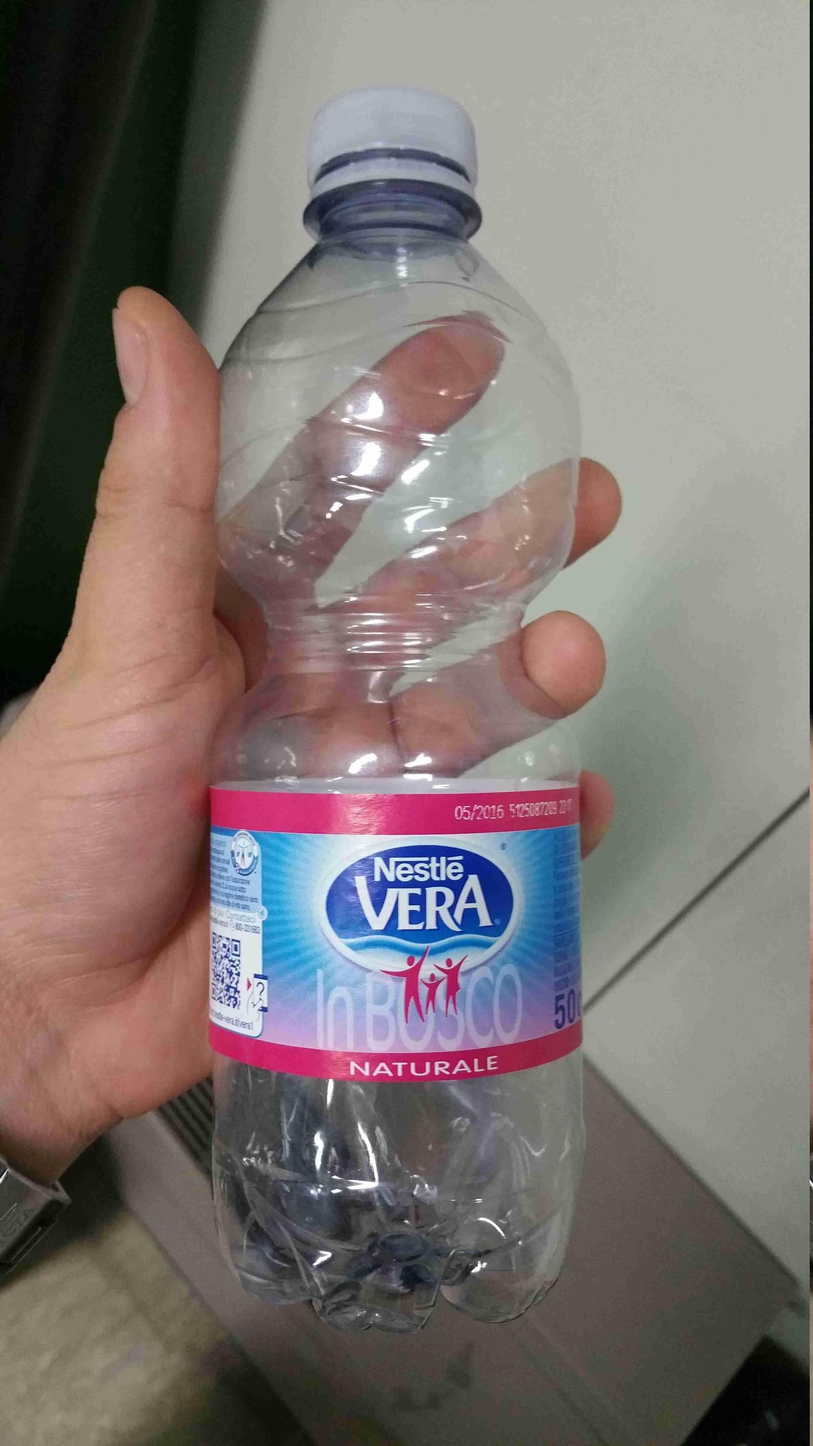bottle-plastic: (200, 85, 597, 1349)
